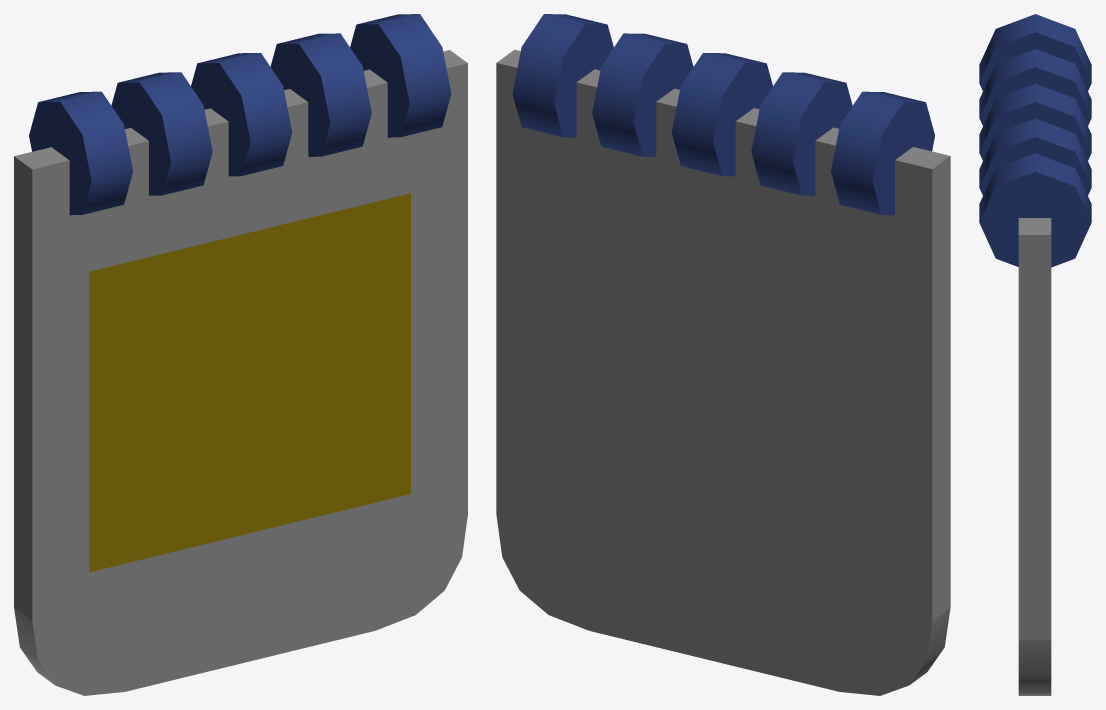
File: notebook_01.fbx
The picture shows the model from 3 angles, left to right: view 1: azimuth 30°, elevation 25°; view 2: azimuth 150°, elevation 25°; view 3: azimuth 270°, elevation 25°; orthographic projection. The views are drawn at different scales.
Visible parts, largest first — view 1: notebook_01; view 2: notebook_01; view 3: notebook_01.
Boxes of the visible parts, box(x1,y1,x2,y2) form: notebook_01: box(14, 14, 467, 695); notebook_01: box(496, 14, 950, 695); notebook_01: box(979, 14, 1091, 695).
Size of the model in its own units: 33.82 by 44.27 by 8.43.
